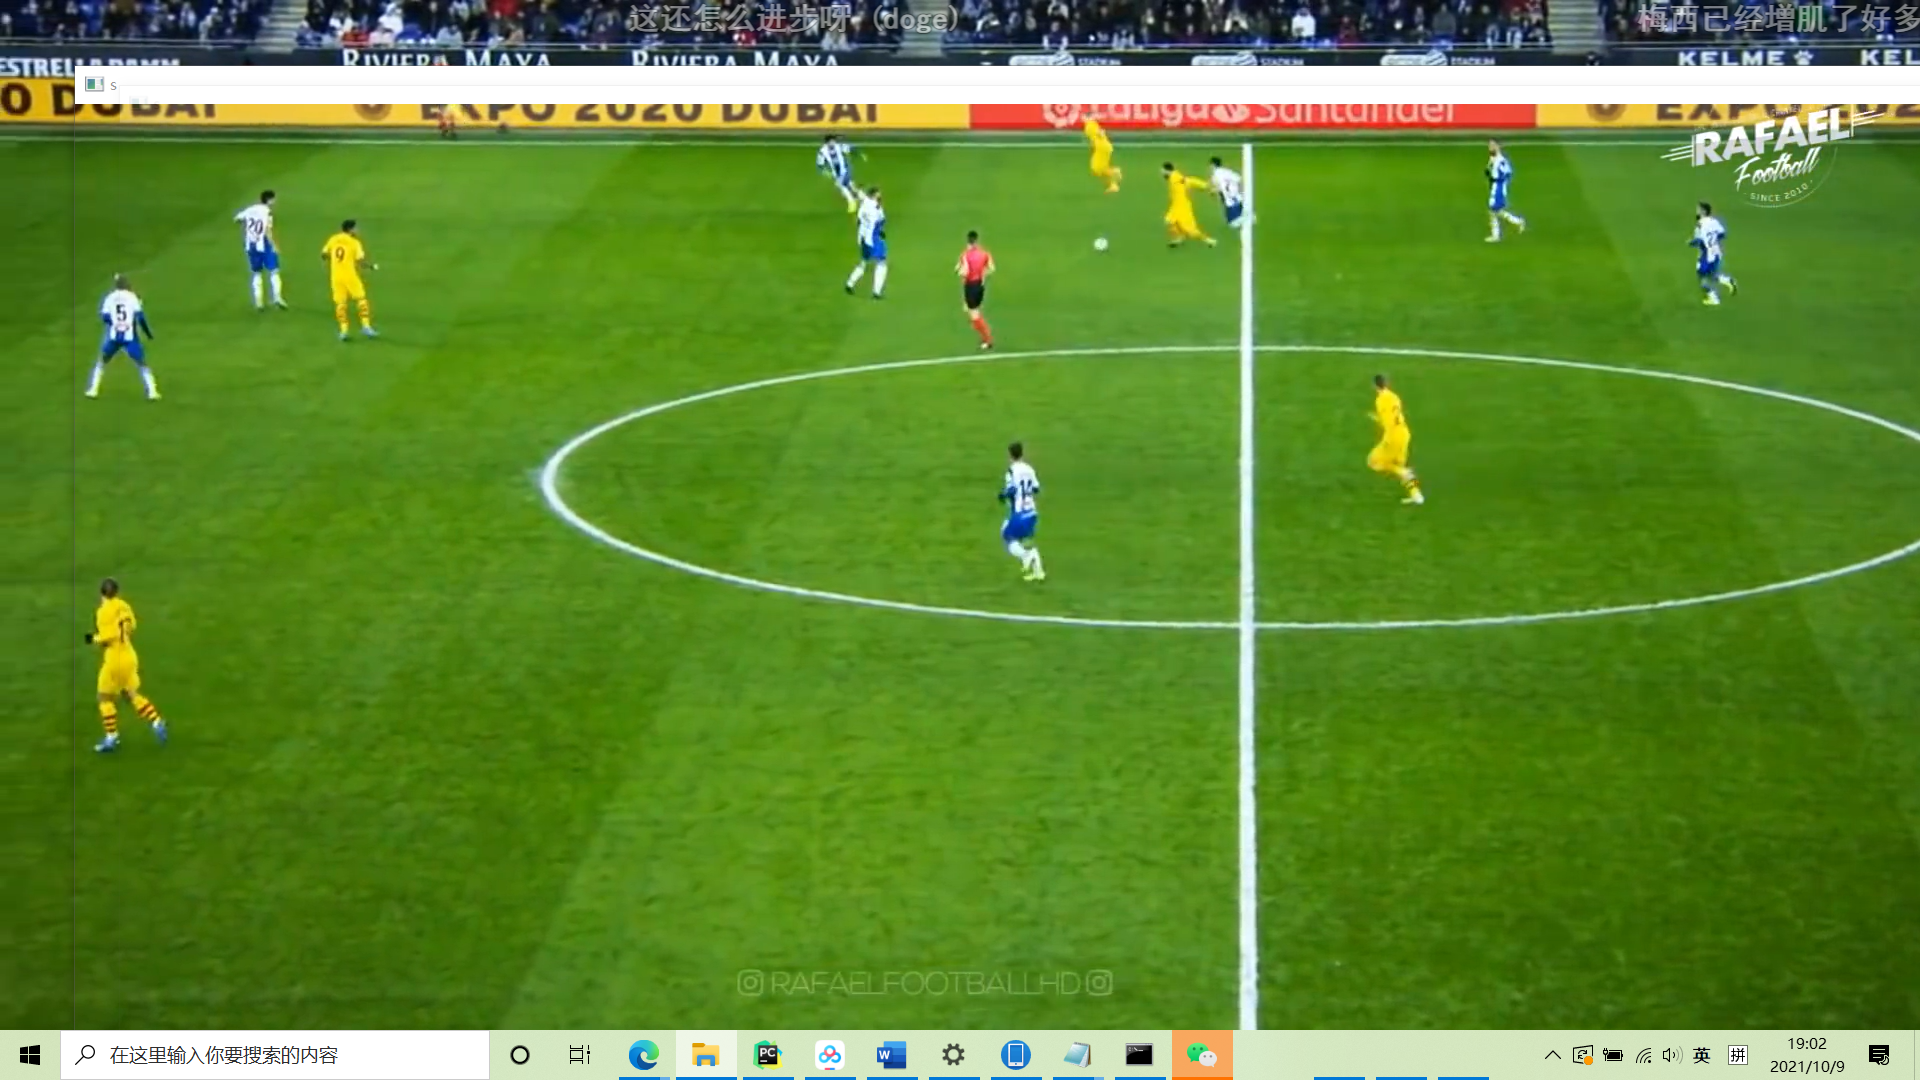ft: (1091, 236, 1112, 255)
